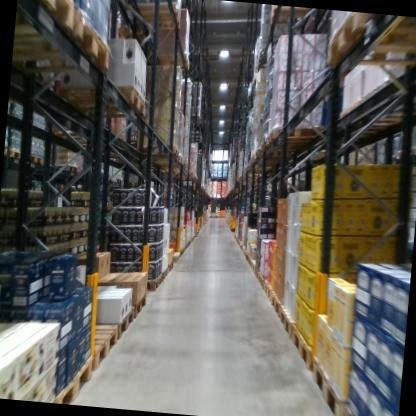pallet: (20, 143, 121, 381), (11, 1, 122, 88), (324, 13, 416, 74), (49, 77, 152, 126), (306, 352, 350, 416), (52, 350, 100, 406), (15, 0, 75, 41), (130, 0, 189, 36), (267, 122, 326, 154), (259, 134, 325, 161), (266, 5, 327, 34), (290, 319, 316, 374), (132, 141, 180, 164), (110, 302, 136, 337), (269, 284, 293, 320), (154, 50, 191, 73), (277, 301, 298, 341), (151, 150, 185, 174), (128, 291, 150, 321), (257, 268, 282, 293), (50, 157, 79, 173), (7, 145, 25, 170), (145, 274, 163, 296), (264, 281, 275, 305), (250, 259, 264, 276), (189, 115, 205, 128), (344, 407, 362, 416), (169, 250, 181, 263), (167, 258, 175, 275), (159, 269, 168, 283), (253, 266, 260, 283), (247, 256, 253, 269), (178, 246, 184, 258), (245, 252, 250, 266), (413, 139, 416, 160)
